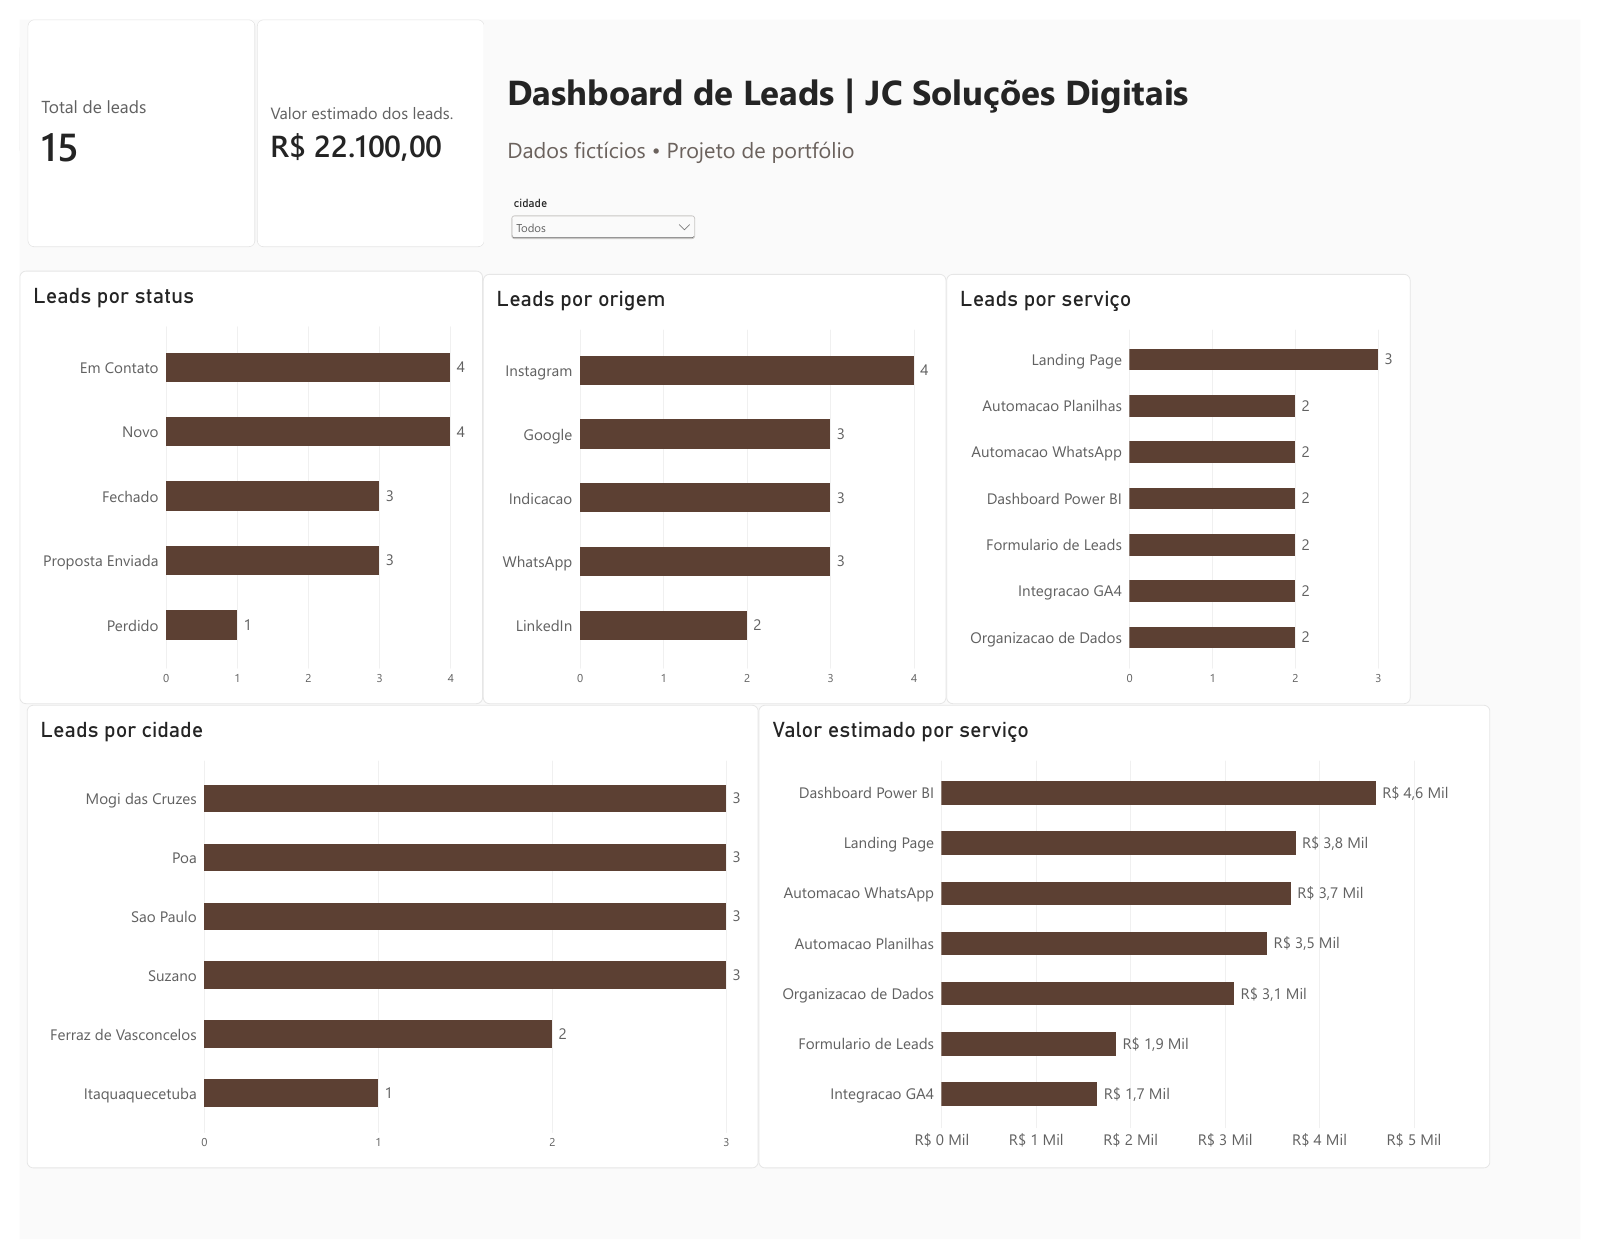

The page's visual inventory and layout, read from the dashboard file:
{"tool":"powerbi","page":{"name":"Visão geral dos leads","canvas":[1920,1500],"ordinal":0},"visuals":[{"type":"cardVisual","fields":{"Data":["CountNonNull(Leads_JC.id_lead)"]},"box":[10,0,280,280],"z":0},{"type":"cardVisual","fields":{"Data":["Leads_JC.Valor estimado exibido"]},"box":[291.6,0,280,280],"z":1000},{"type":"clusteredBarChart","title":"Leads por status","fields":{"Category":["Leads_JC.status"],"Y":["CountNonNull(Leads_JC.id_lead)"]},"box":[0,308.9,570.2,533.5],"z":2000},{"type":"clusteredBarChart","title":"Leads por origem","fields":{"Category":["Leads_JC.origem"],"Y":["CountNonNull(Leads_JC.id_lead)"]},"box":[570.2,313.2,570.2,529.2],"z":3000},{"type":"clusteredBarChart","title":"Leads por serviço","fields":{"Category":["Leads_JC.servico"],"Y":["CountNonNull(Leads_JC.id_lead)"]},"box":[1140.5,313.2,570.2,529.2],"z":4000},{"type":"textbox","box":[600,60,848,80],"z":5000},{"type":"textbox","box":[600,142,558,76],"z":6000},{"type":"slicer","fields":{"Values":["Leads_JC.cidade"]},"box":[600,218,236,64],"z":7000},{"type":"clusteredBarChart","title":"Leads por cidade","fields":{"Category":["Leads_JC.cidade"],"Y":["CountNonNull(Leads_JC.id_lead)"]},"box":[9,843,900,570],"z":8000},{"type":"clusteredBarChart","title":"Valor estimado por serviço","fields":{"Category":["Leads_JC.servico"],"Y":["Sum(Leads_JC.valor_estimado)"]},"box":[909,843,900,570],"z":9000}]}

Visuals, with their boxes in screenshot pixels (x1, y1, x2, y2), scaled from the page's 1920x1500 canvas onto the 1600x1259 screenshot:
cardVisual - CountNonNull(Leads_JC.id_lead): {"x1": 8, "y1": 0, "x2": 242, "y2": 235}
cardVisual - Leads_JC.Valor estimado exibido: {"x1": 243, "y1": 0, "x2": 476, "y2": 235}
"Leads por status" clusteredBarChart: {"x1": 0, "y1": 259, "x2": 475, "y2": 707}
"Leads por origem" clusteredBarChart: {"x1": 475, "y1": 263, "x2": 950, "y2": 707}
"Leads por serviço" clusteredBarChart: {"x1": 950, "y1": 263, "x2": 1426, "y2": 707}
textbox: {"x1": 500, "y1": 50, "x2": 1207, "y2": 118}
textbox: {"x1": 500, "y1": 119, "x2": 965, "y2": 183}
slicer - Leads_JC.cidade: {"x1": 500, "y1": 183, "x2": 697, "y2": 237}
"Leads por cidade" clusteredBarChart: {"x1": 8, "y1": 708, "x2": 758, "y2": 1186}
"Valor estimado por serviço" clusteredBarChart: {"x1": 758, "y1": 708, "x2": 1508, "y2": 1186}
